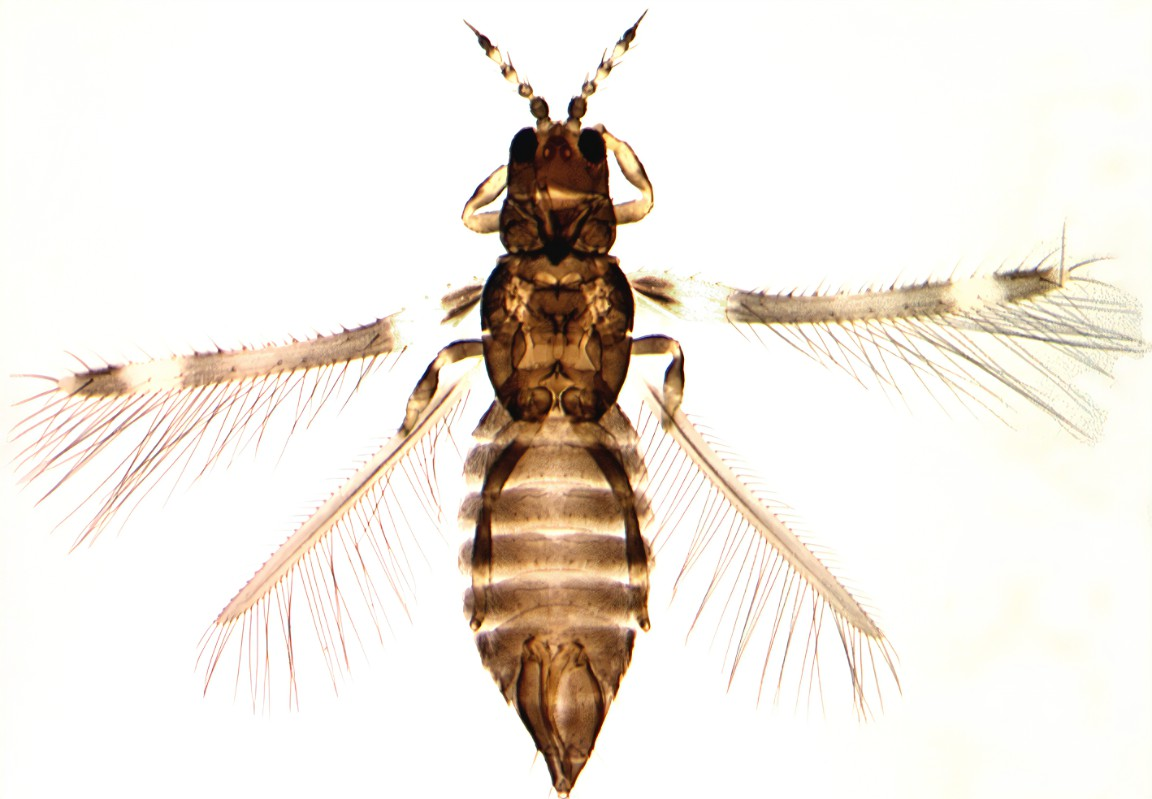Thripidae: (3, 8, 1152, 798)
